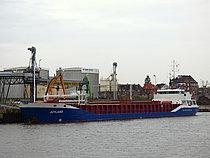Ship: (19, 78, 204, 125)
